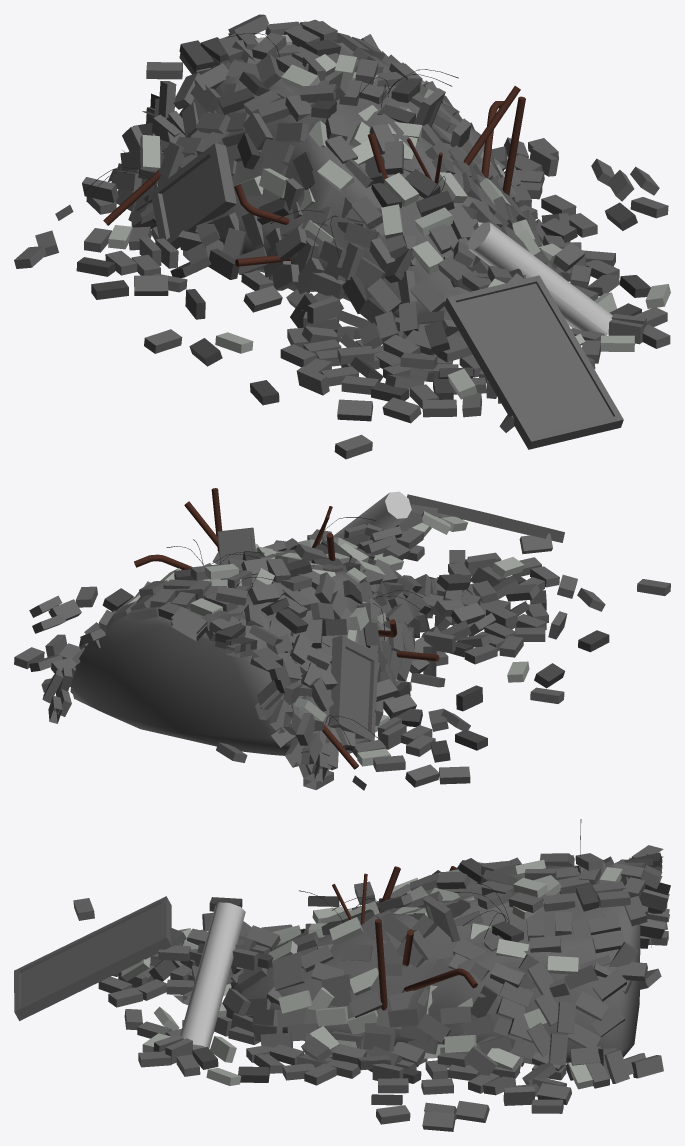
Rendered from destructions2 1.fbx.
3 views of the same model, one above another, from view 1: azimuth 30°, elevation 25°; view 2: azimuth 150°, elevation 25°; view 3: azimuth 270°, elevation 25° (orthographic). The views are drawn at different scales.
Visible parts, largest first — view 1: Destucructions.001; view 2: Destucructions.001; view 3: Destucructions.001.
Part boxes in pixels (x1,y1,x2,y2): Destucructions.001: (14,14,670,459); Destucructions.001: (14,488,670,790); Destucructions.001: (14,819,670,1131).
Bounding box in the file's own units: 828 × 266 × 922.
1 material, 1 textured.
